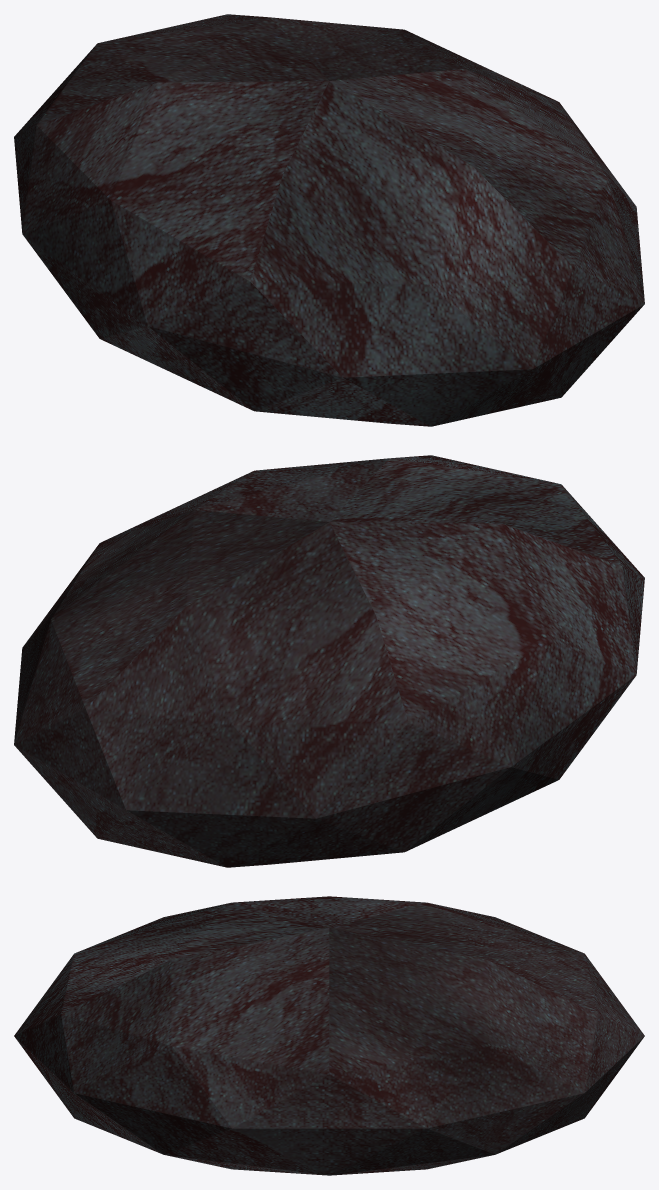
The model's file is fileasteroid2.dae.
The picture shows the model from 3 angles, top to bottom: view 1: azimuth 30°, elevation 25°; view 2: azimuth 150°, elevation 25°; view 3: azimuth 270°, elevation 25°; orthographic projection. The views are drawn at different scales.
Visible parts, largest first — view 1: Icosphere; view 2: Icosphere; view 3: Icosphere.
Boxes of the visible parts, x1,y1,x2,y2 form: Icosphere: (14, 14, 644, 426); Icosphere: (14, 455, 644, 867); Icosphere: (14, 896, 644, 1175).
Bounding box in the file's own units: 9.24 × 5.04 × 13.32.
Materials: 1 (1 with a texture image).
